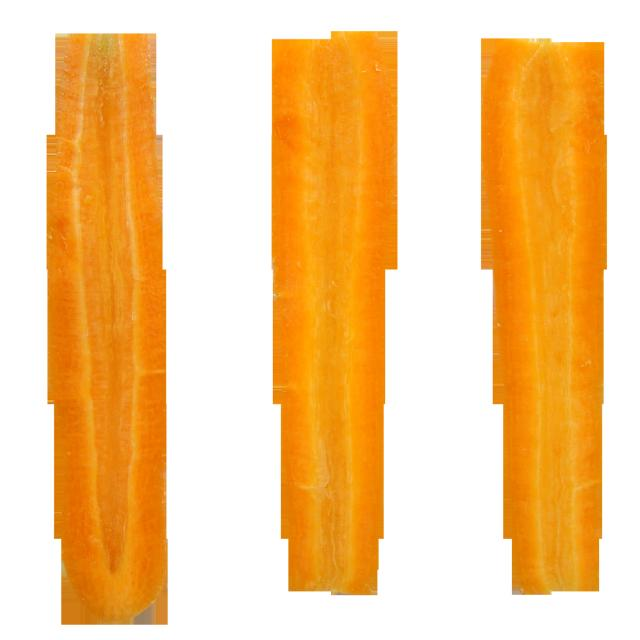carrot: (46, 33, 167, 624), (272, 31, 398, 595), (482, 38, 608, 595)
